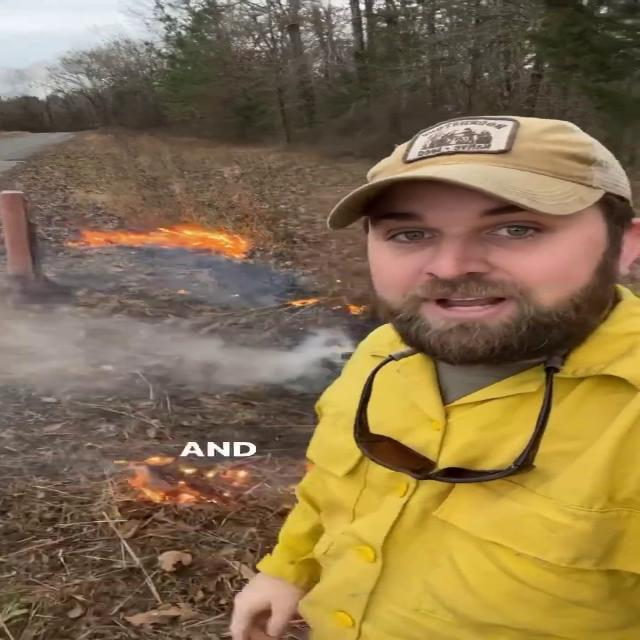Fire: (72, 213, 260, 270)
Smoke: (18, 292, 346, 417)
